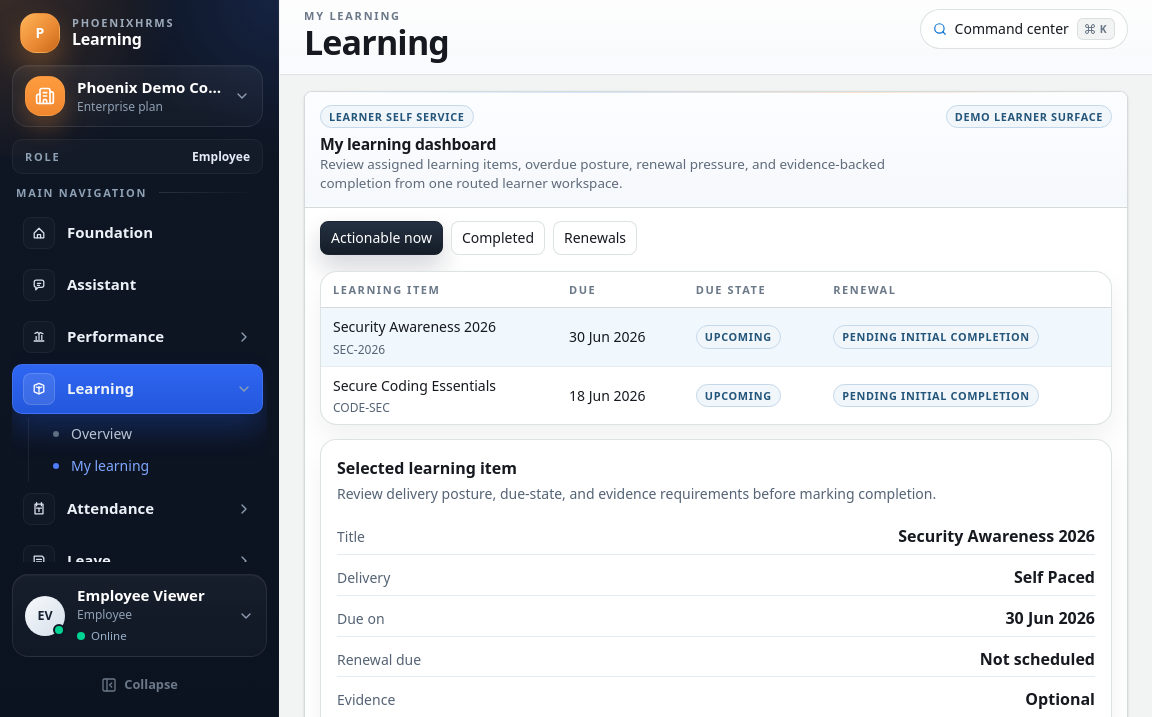
LearningMyLearningPage › lets an employee complete an evidence-backed learning item in demo mode
This screenshot has width=1152, height=717.
Expected: the heading "My learning dashboard" is shown, [320,133,496,155]
Click the text "Secure Coding Essentials" at {"x": 414, "y": 385}, box [333,376,496,395]
(page scrolled)
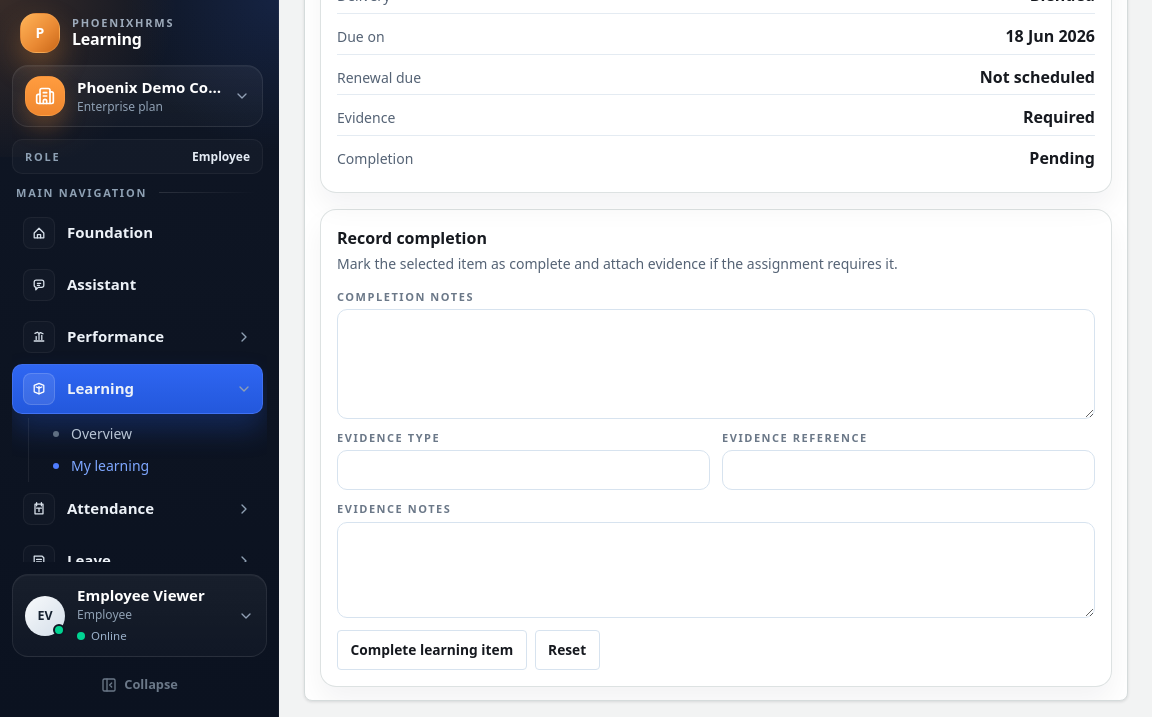
Type "Completed the secure coding walkthrough." into the text box labelled "Completion notes" at {"x": 716, "y": 364}, box [337,309,1095,419]
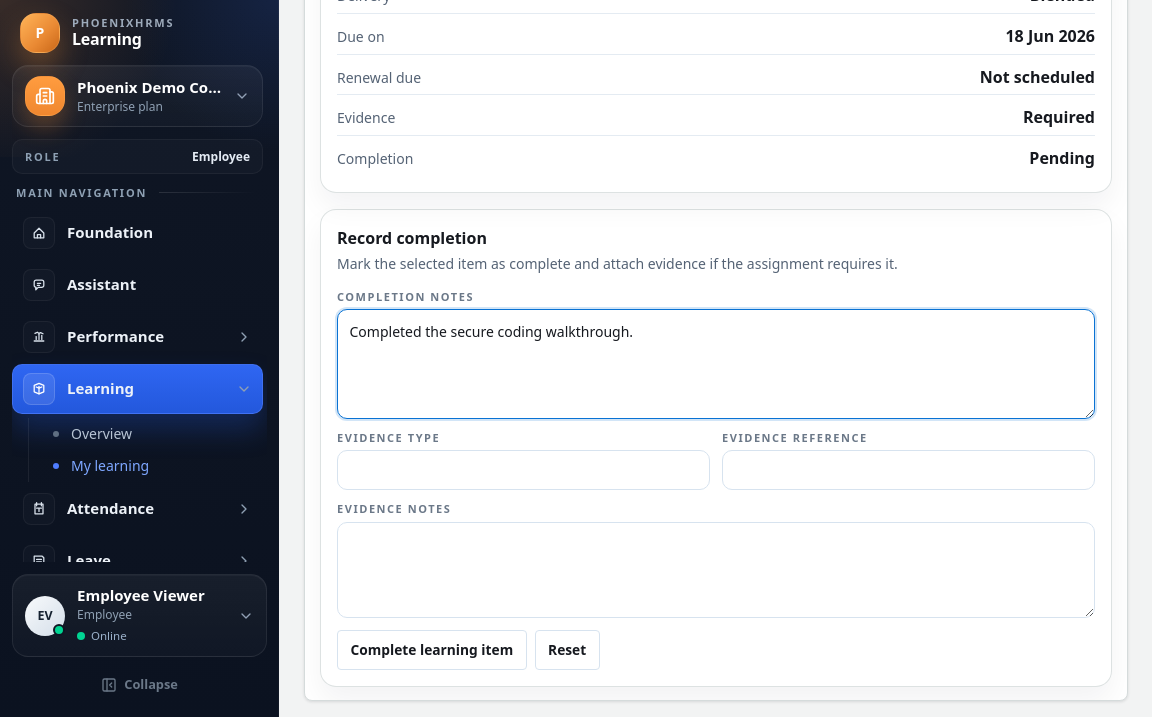
Type "certificate" into the field labelled "Evidence type" at {"x": 524, "y": 470}, box [337,450,710,490]
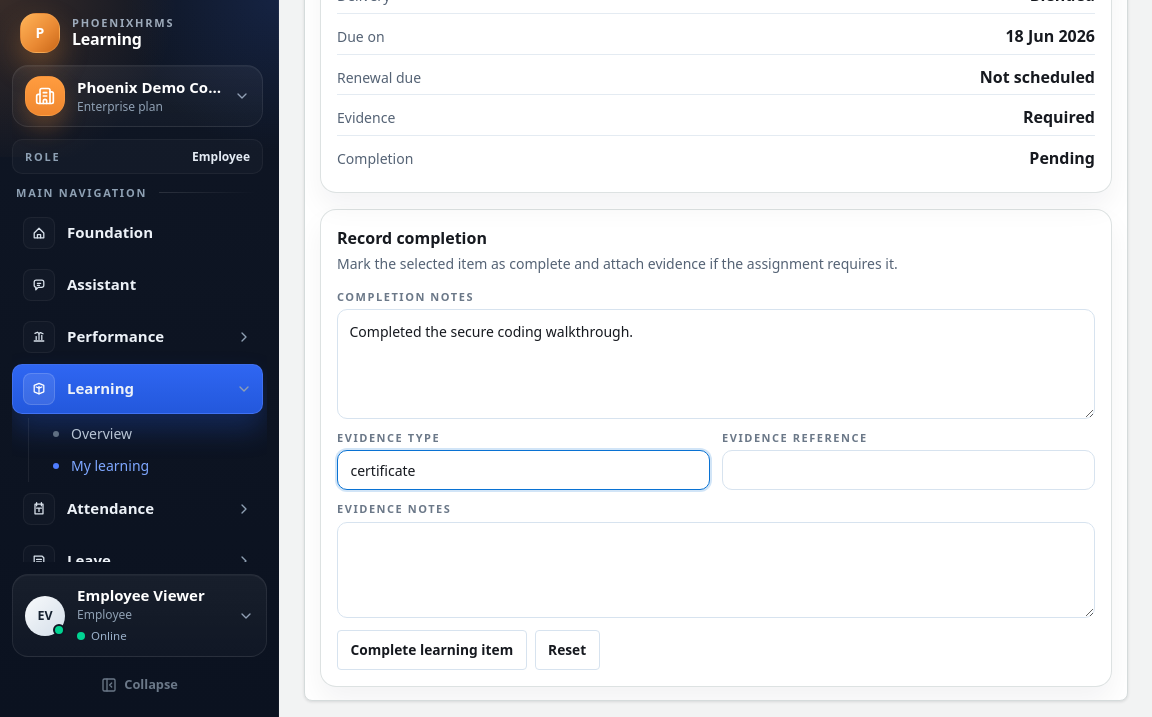
Type "CERT-SCE-2103" into the field labelled "Evidence reference" at {"x": 908, "y": 470}, box [722,450,1095,490]
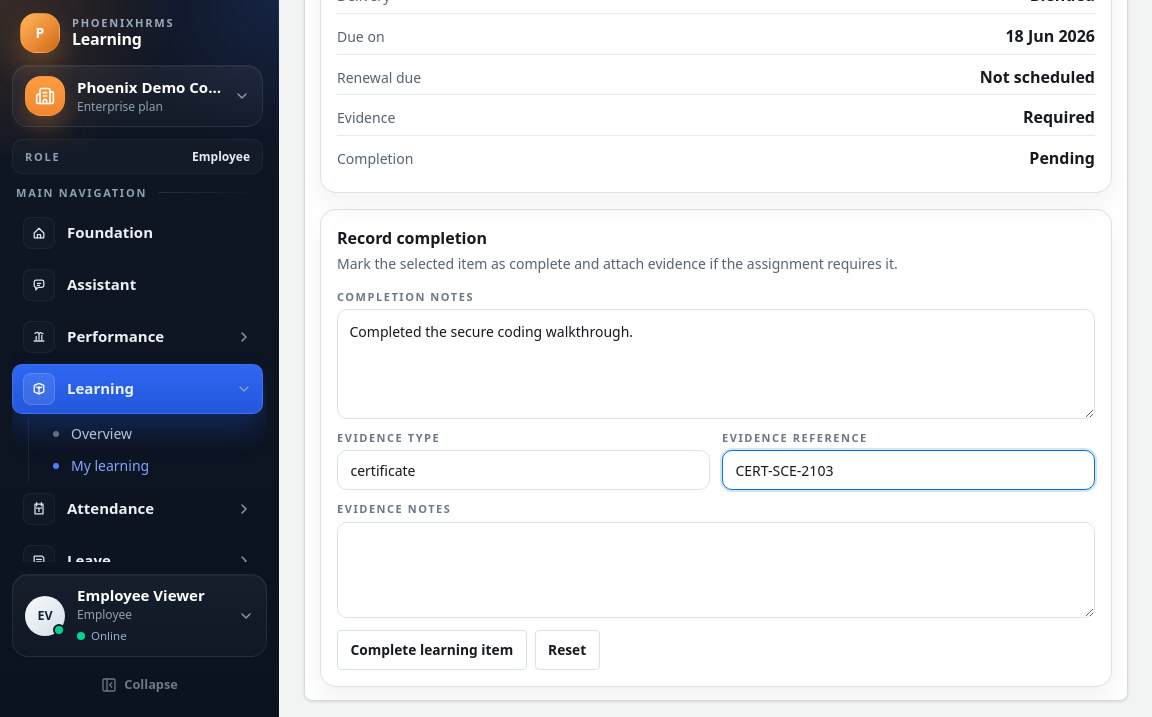
Click the button "Complete learning item" at {"x": 432, "y": 650}, box [337,630,527,670]
(page scrolled)
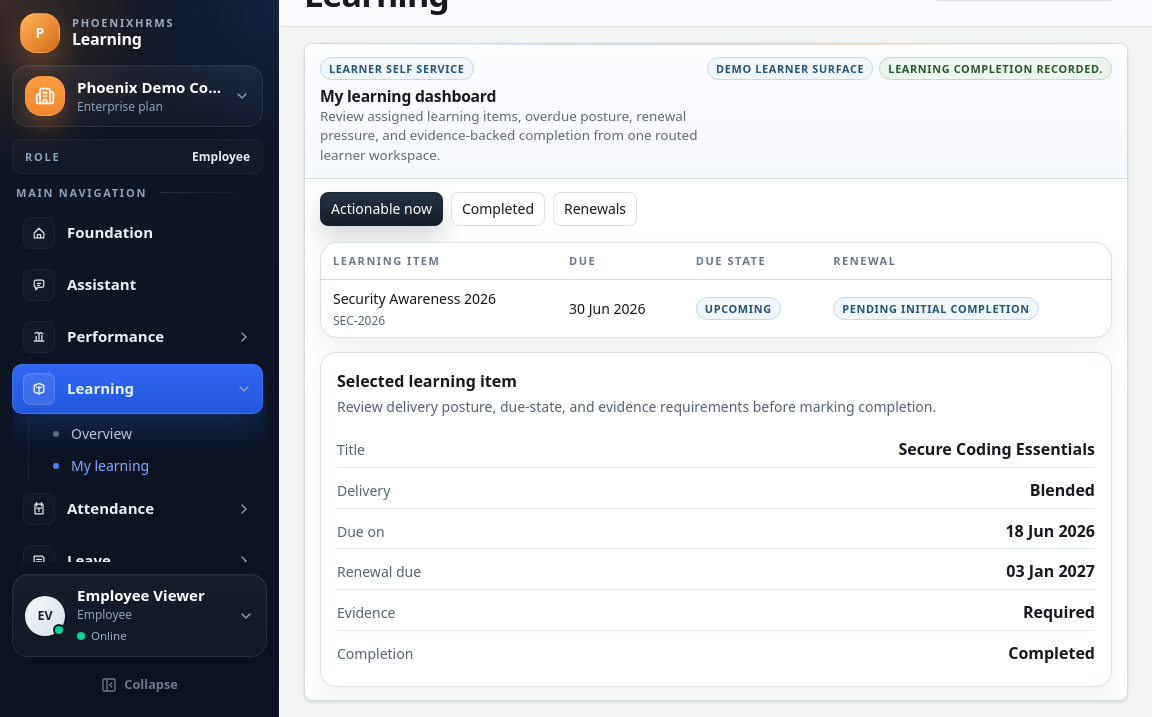
Expected: the button "Completed" is shown, [451,192,545,226]
Now the text "Learning completion recorded." is shown, box [879,57,1112,80]
